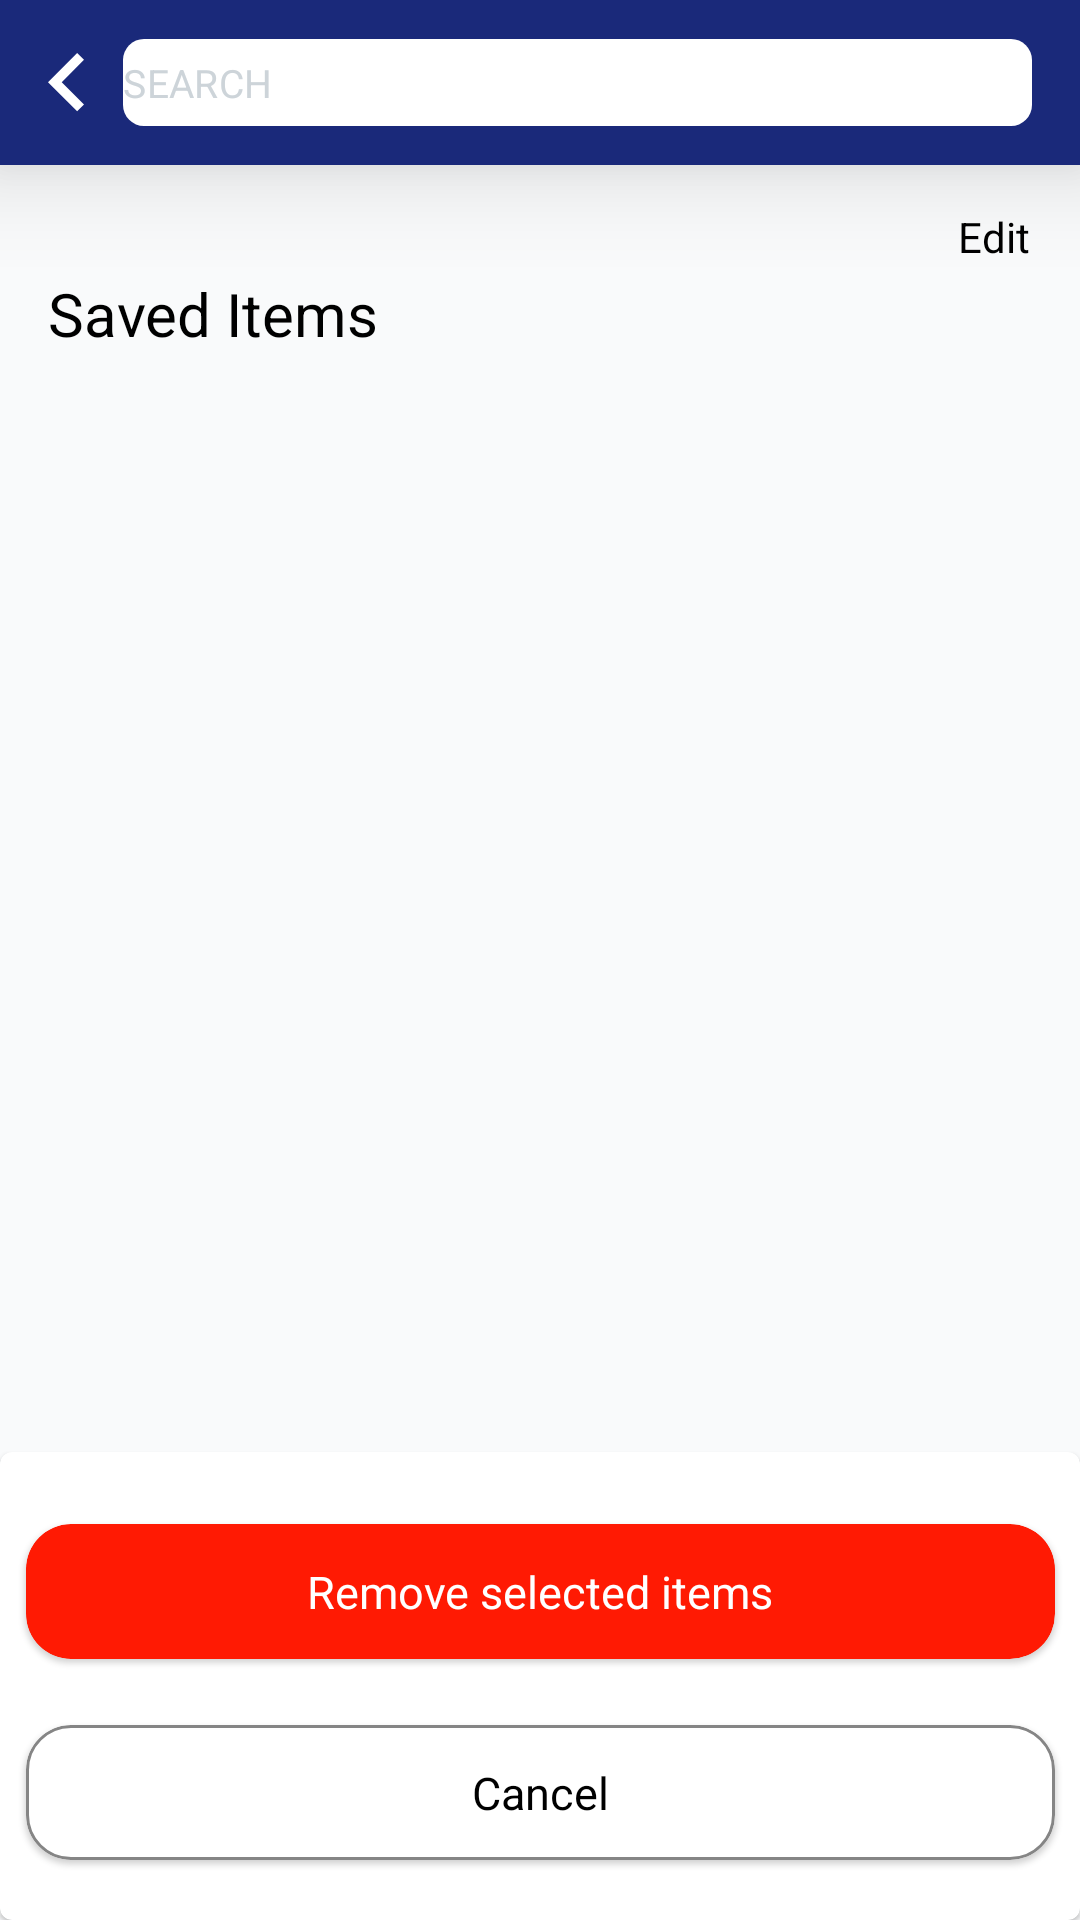

Point at icon controls on the screen. Image size 1080px×1920px, points as (x,y).
back: (66,82)
